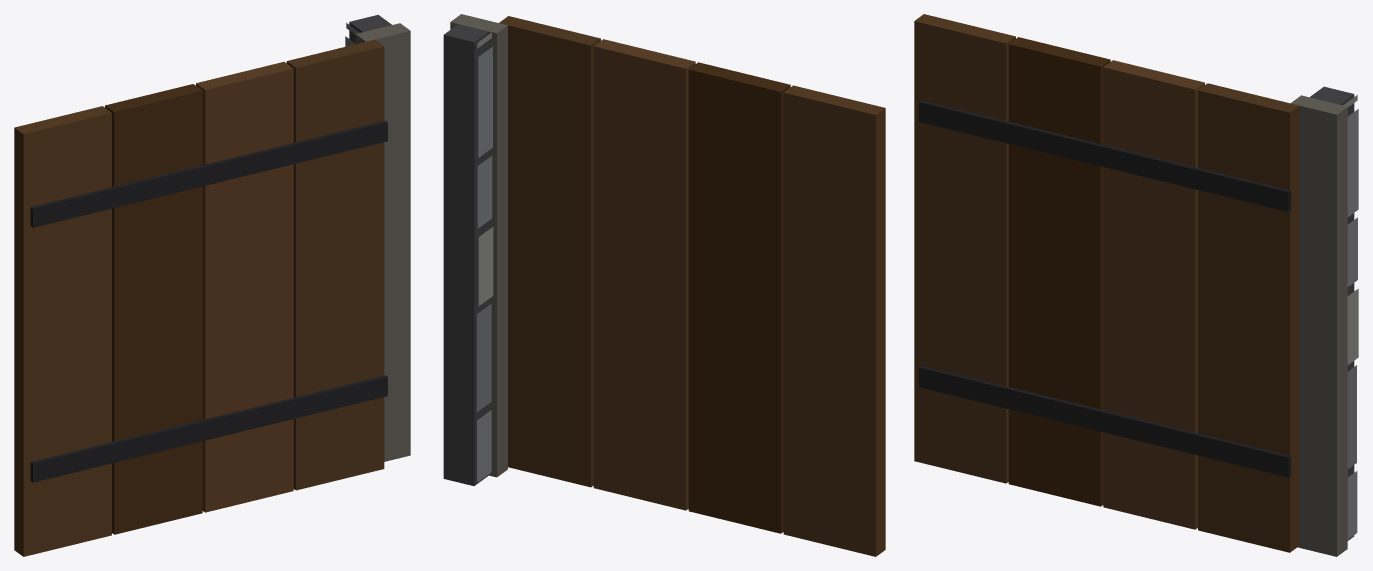
The model's file is wall-stone-door-open-low-l.glb.
The picture shows the model from 3 angles, left to right: view 1: azimuth 30°, elevation 25°; view 2: azimuth 150°, elevation 25°; view 3: azimuth 330°, elevation 25°; orthographic projection. The views are drawn at different scales.
Visible parts, largest first — view 1: wall-stone-door-open-low-l; view 2: wall-stone-door-open-low-l; view 3: wall-stone-door-open-low-l.
Boxes of the visible parts, box(x1,y1,x2,y2) form: wall-stone-door-open-low-l: box(14, 14, 410, 556); wall-stone-door-open-low-l: box(443, 14, 885, 556); wall-stone-door-open-low-l: box(914, 14, 1358, 556).
Size of the model in its own units: 0.977 by 1 by 0.155.
